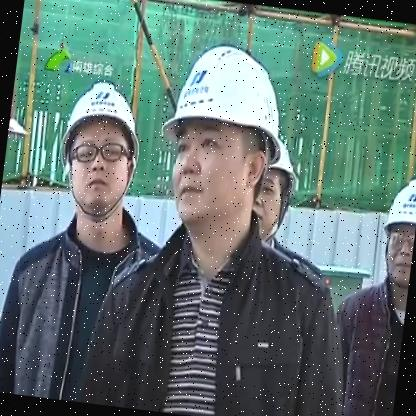capacete: (143, 37, 293, 246), (46, 69, 150, 232), (371, 168, 415, 296)
sem_colete_refletivo: (74, 201, 373, 415), (0, 191, 178, 410), (313, 260, 410, 415)
